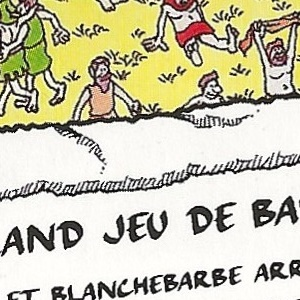Charlie: (136, 112, 164, 180)
